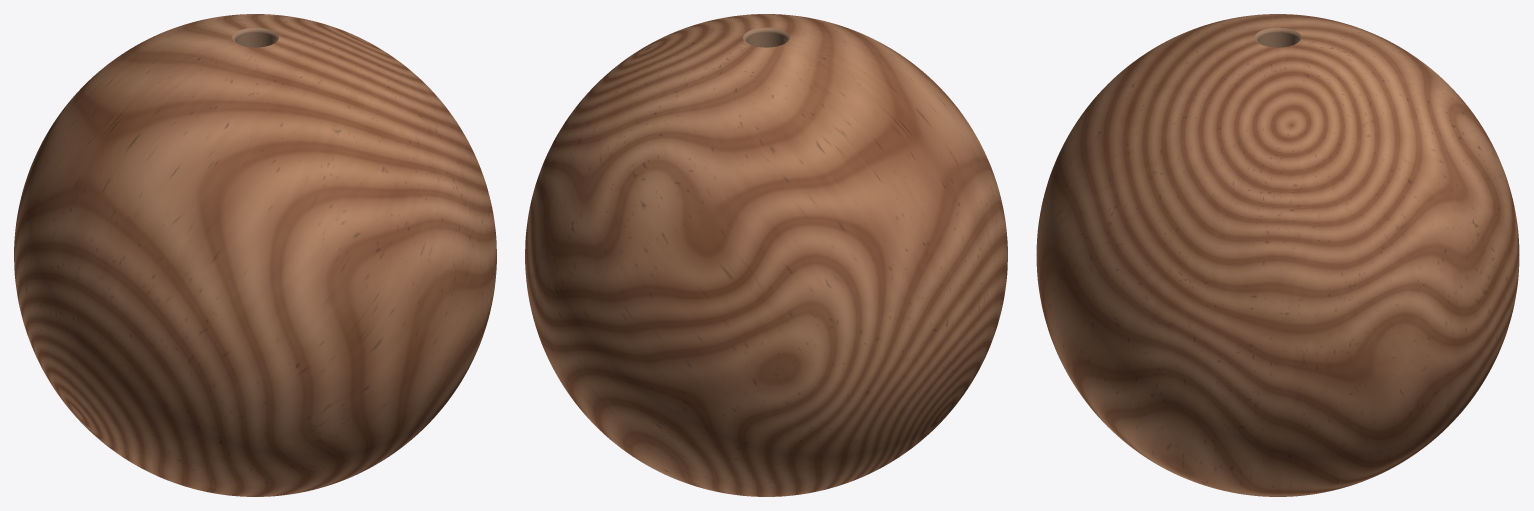
File: wood-yew-12mm.glb
3 renders of one model, left to right at view 1: azimuth 30°, elevation 25°; view 2: azimuth 150°, elevation 25°; view 3: azimuth 270°, elevation 25°, orthographic.
Parts seen in each view (by area): view 1: yew; view 2: yew; view 3: yew.
Part boxes in pixels (x1=…): yew: x1=14, y1=14, x2=496, y2=496; yew: x1=525, y1=14, x2=1007, y2=496; yew: x1=1036, y1=14, x2=1519, y2=496.
Bounding box in the file's own units: 0.012 × 0.0119 × 0.012.
Materials: 2 (1 with a texture image).
